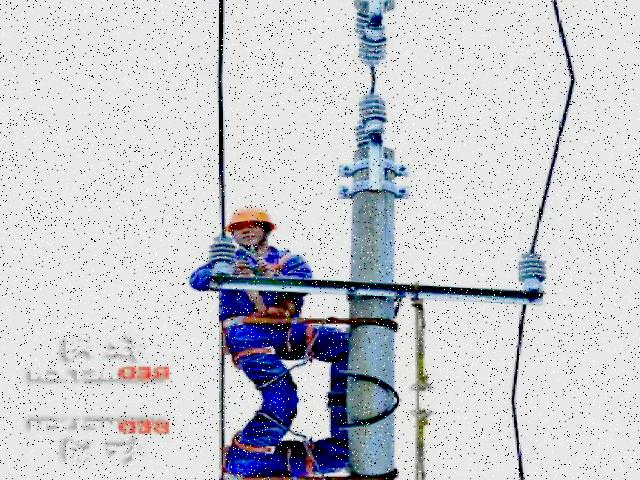Helmet: (222, 202, 285, 233)
